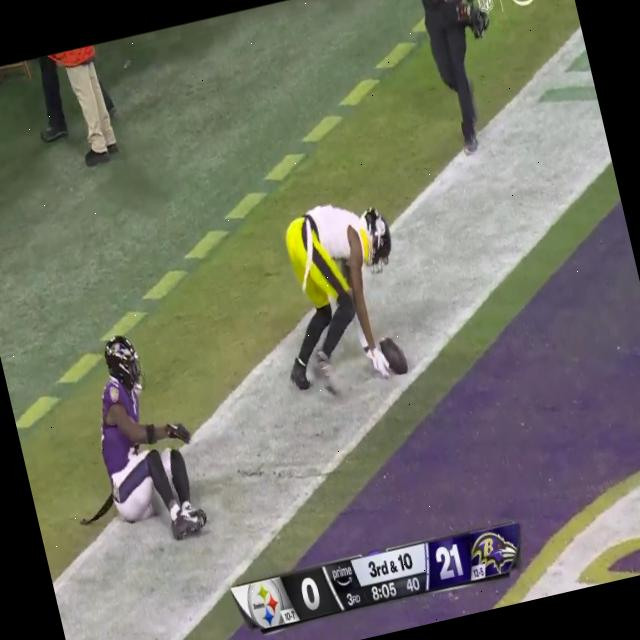Player: (274, 183, 424, 395), (77, 328, 200, 552)
